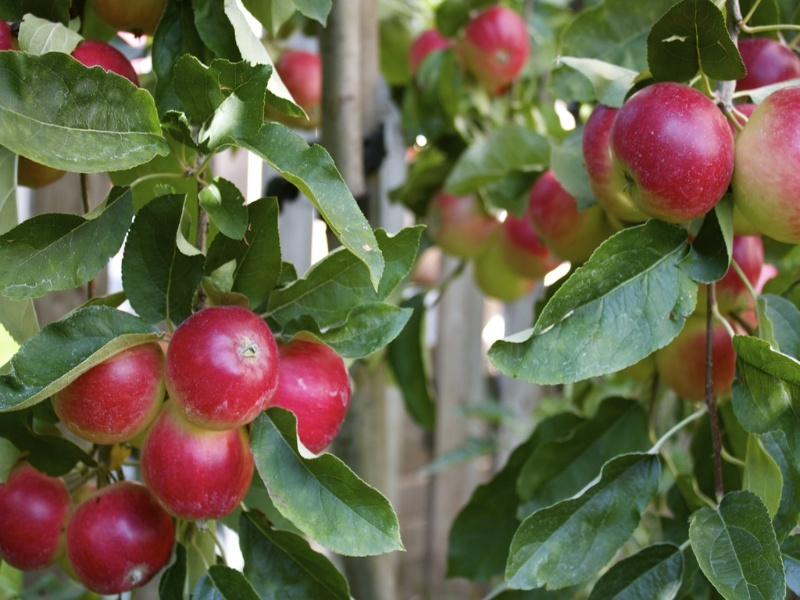apple: (606, 80, 737, 224), (166, 301, 279, 424), (56, 481, 178, 594)
